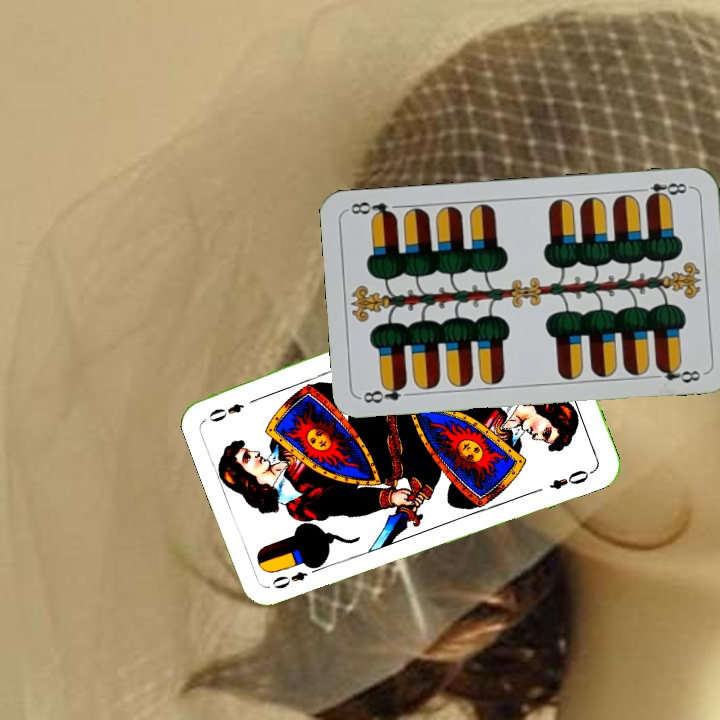E8: (357, 379, 410, 406), (634, 179, 693, 203)
EO: (268, 560, 323, 592)
